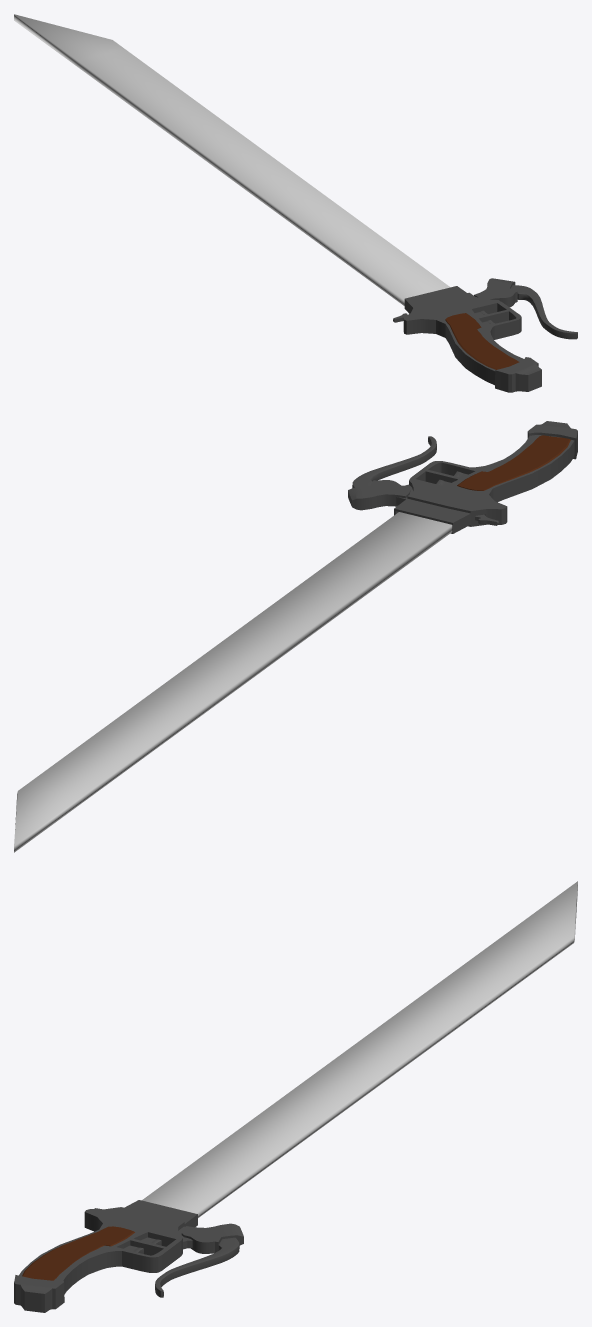
Rendered from odmBlade.glb.
The picture shows the model from 3 angles, top to bottom: view 1: azimuth 30°, elevation 25°; view 2: azimuth 150°, elevation 25°; view 3: azimuth 330°, elevation 25°; orthographic projection. The views are drawn at different scales.
Visible parts, largest first — view 1: Cube; view 2: Cube; view 3: Cube.
Part boxes in pixels (bbox=[...]): Cube: bbox=[14, 14, 577, 392]; Cube: bbox=[14, 421, 577, 852]; Cube: bbox=[14, 881, 577, 1312].
Bounding box in the file's own units: 2.74 × 0.3637 × 17.97.
